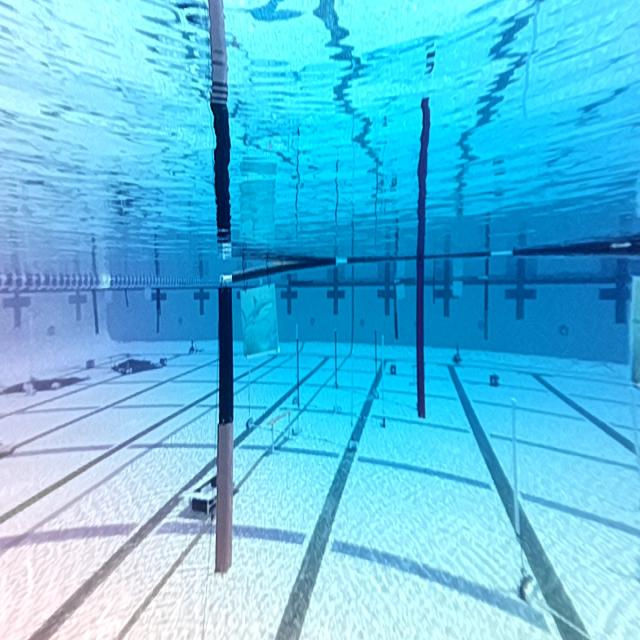round_nose: (236, 287, 286, 337)
